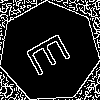E: (24, 27, 80, 78)
